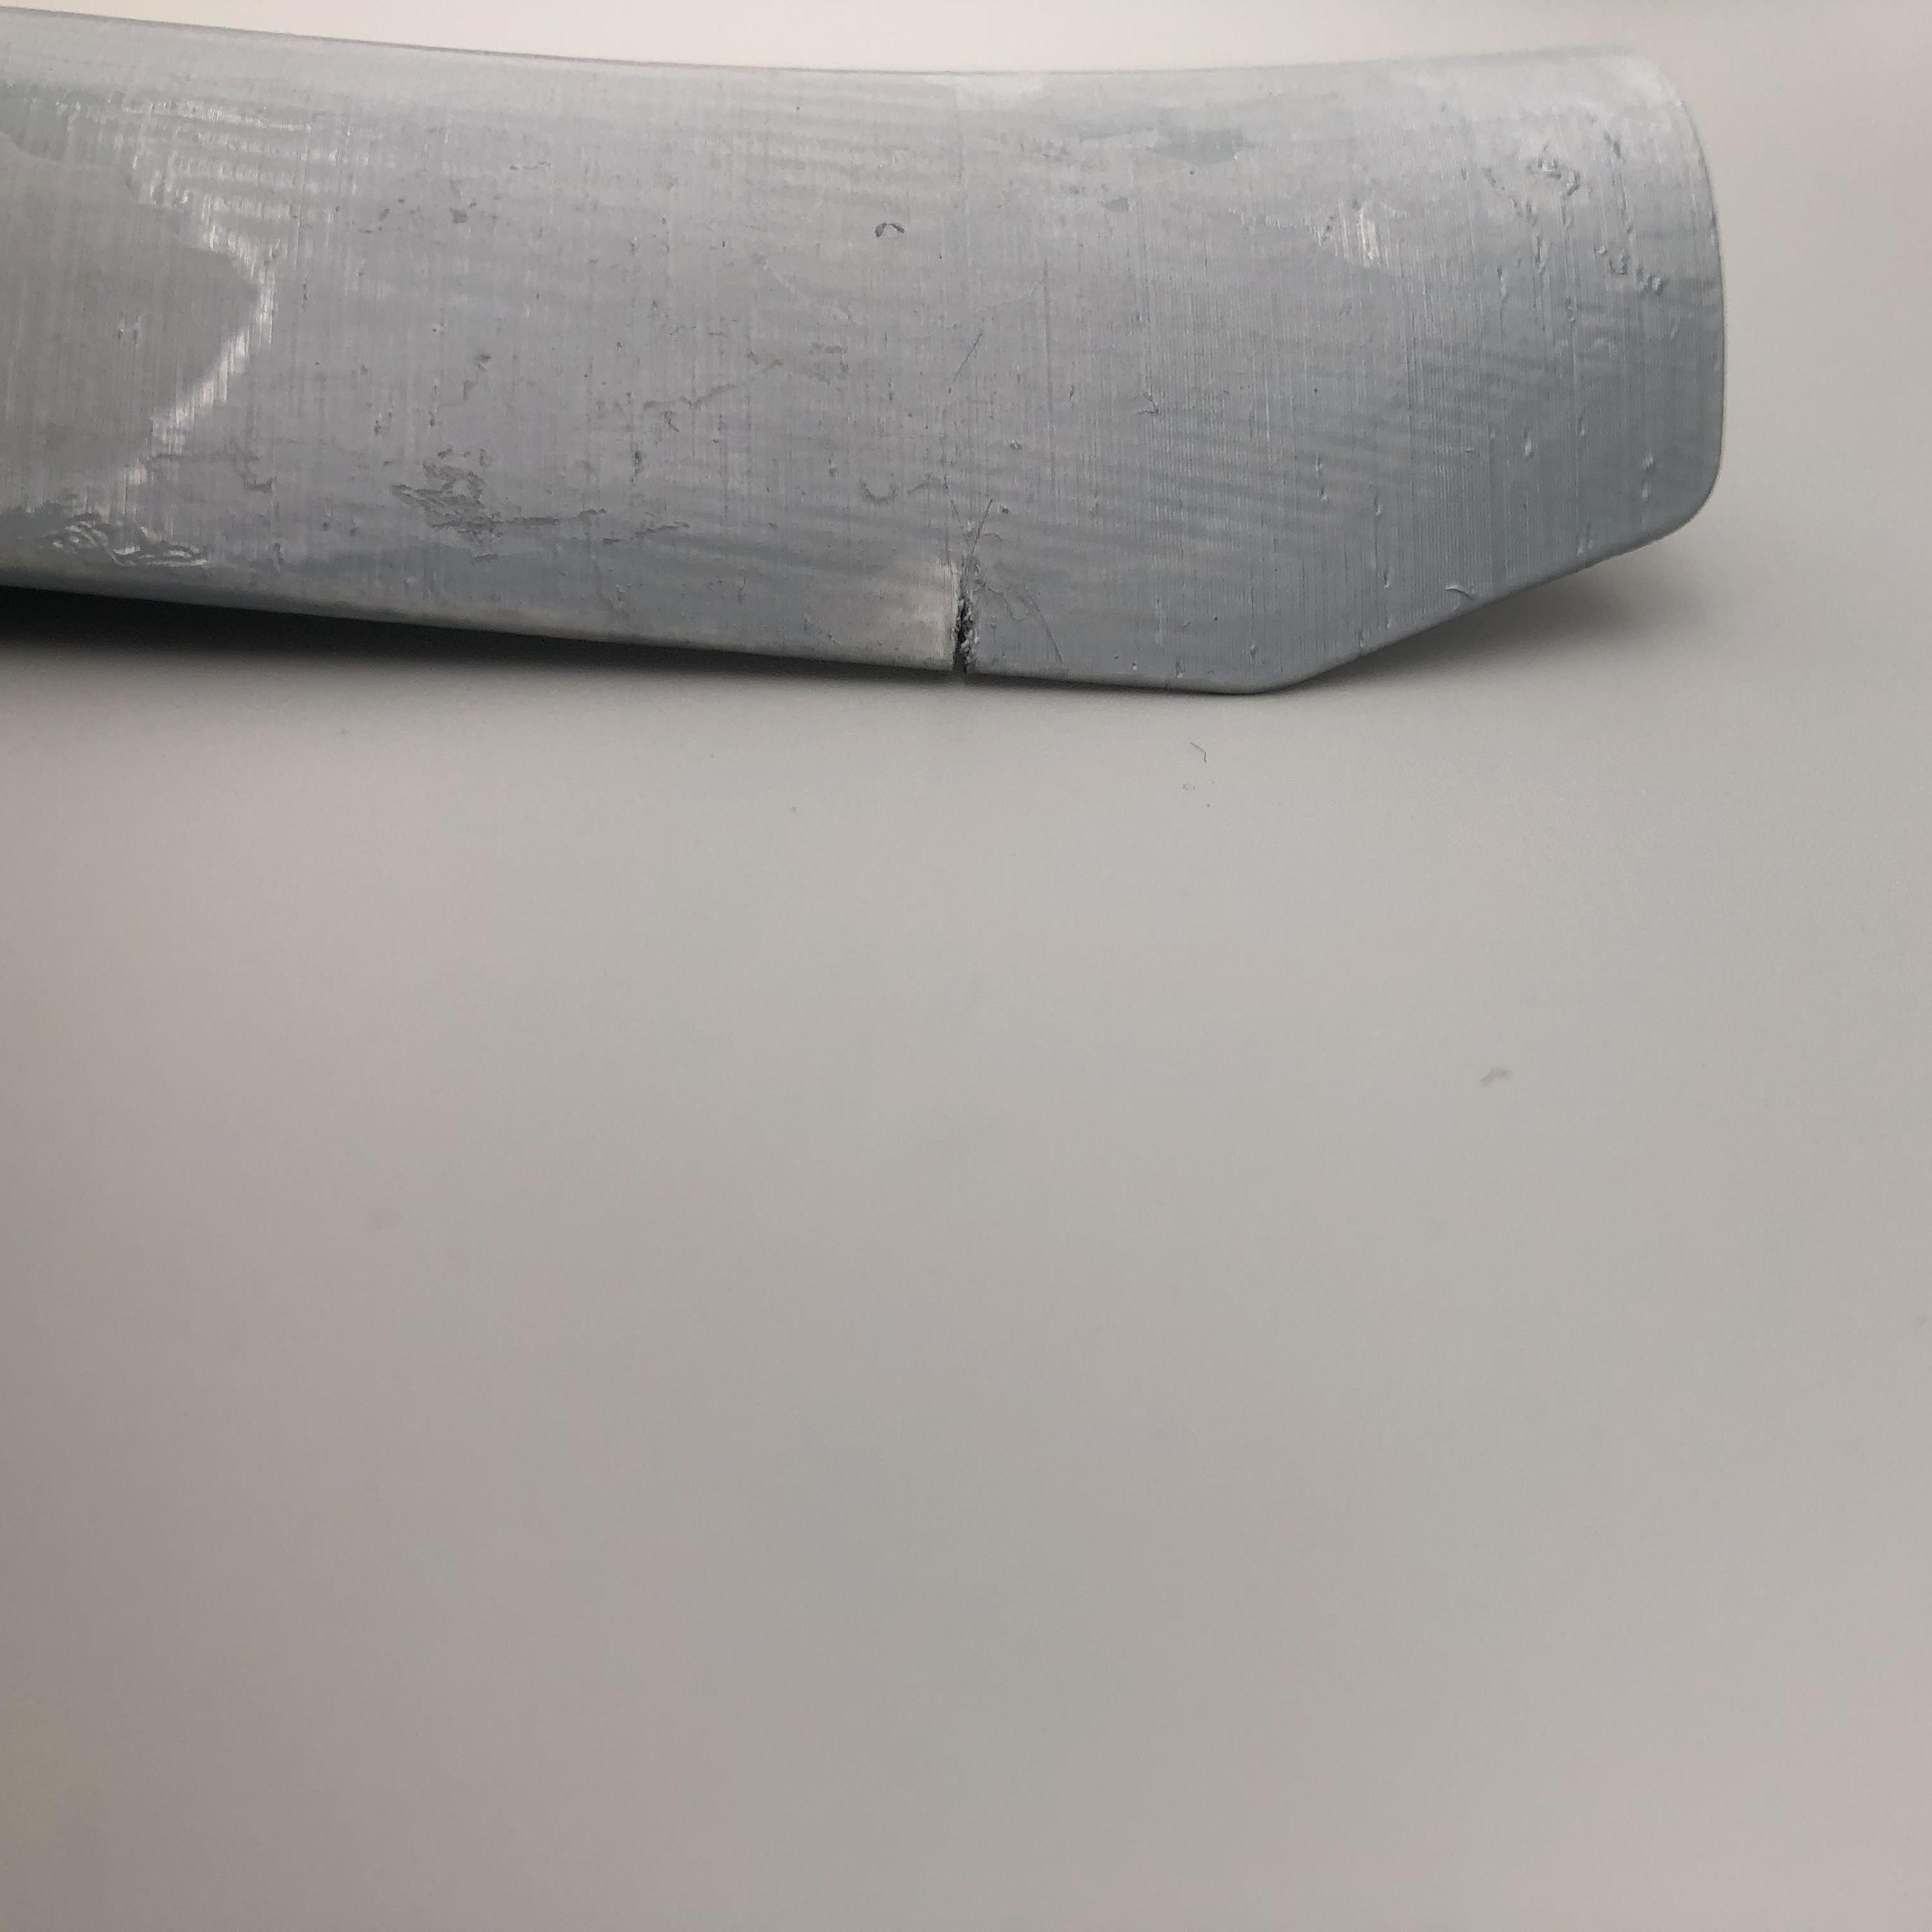groove: (938, 591, 1003, 672)
